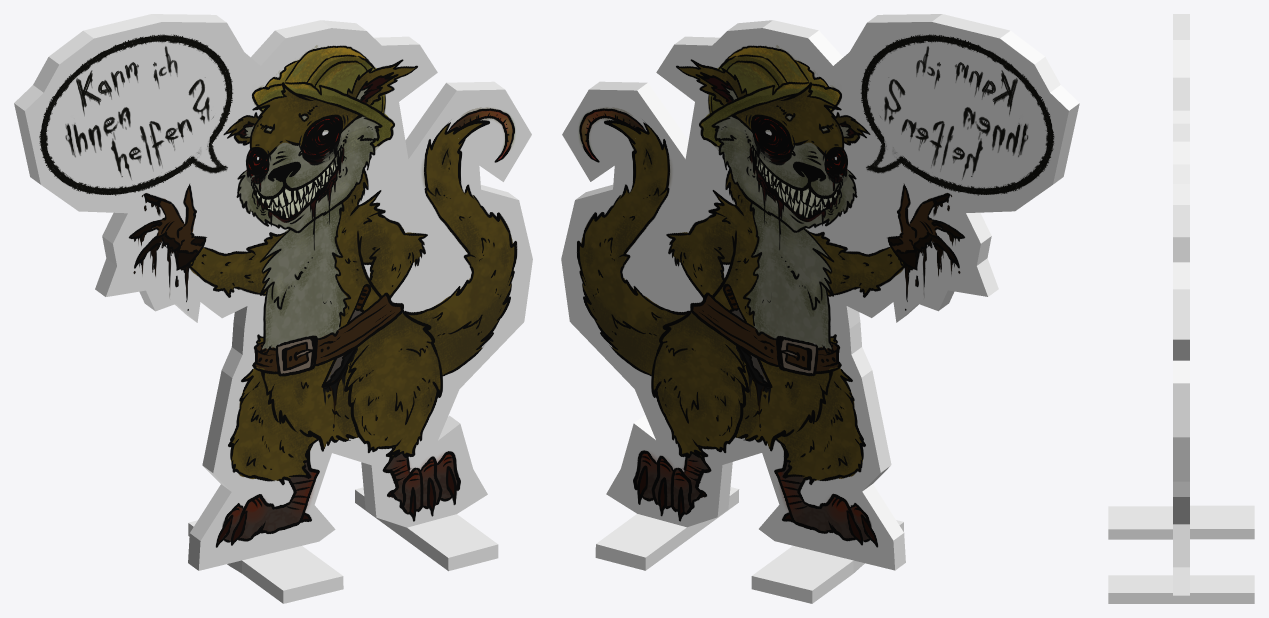
File: Oswald_Evil.fbx
The picture shows the model from 3 angles, left to right: view 1: azimuth 30°, elevation 25°; view 2: azimuth 150°, elevation 25°; view 3: azimuth 270°, elevation 25°; orthographic projection. The views are drawn at different scales.
Visible parts, largest first — view 1: OtterEvil; view 2: OtterEvil; view 3: OtterEvil.
Boxes of the visible parts, x1,y1,x2,y2 form: OtterEvil: (14,14,532,603); OtterEvil: (561,14,1079,603); OtterEvil: (1108,14,1254,603).
Size of the model in its own units: 312 by 340 by 99.46.
